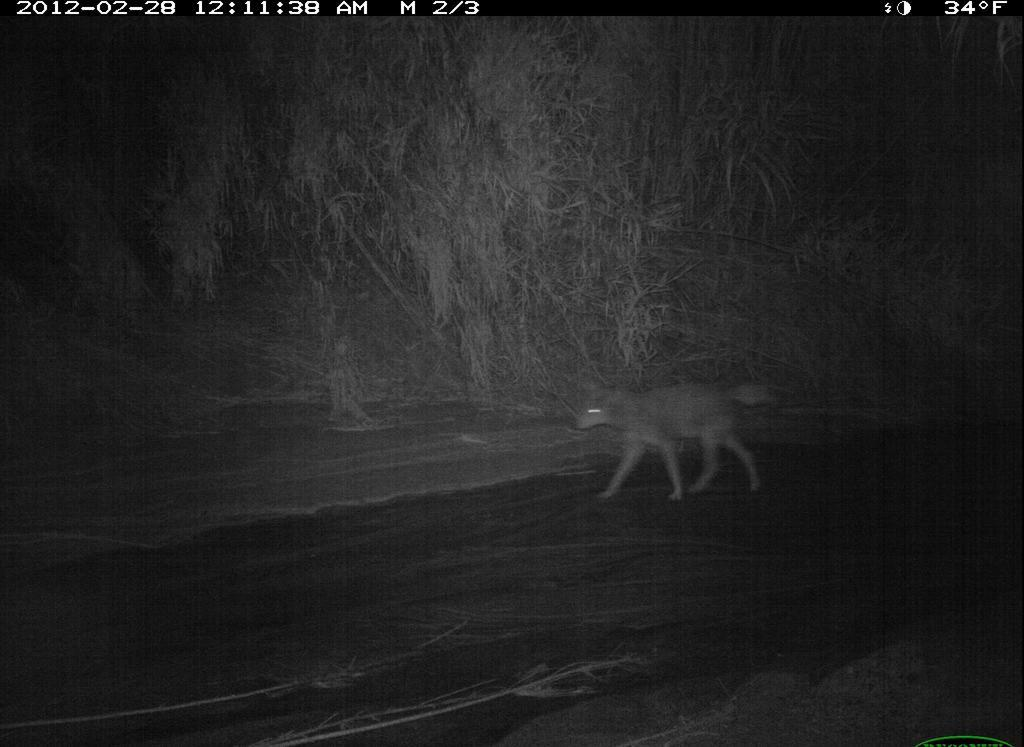coyote: (569, 376, 776, 513)
